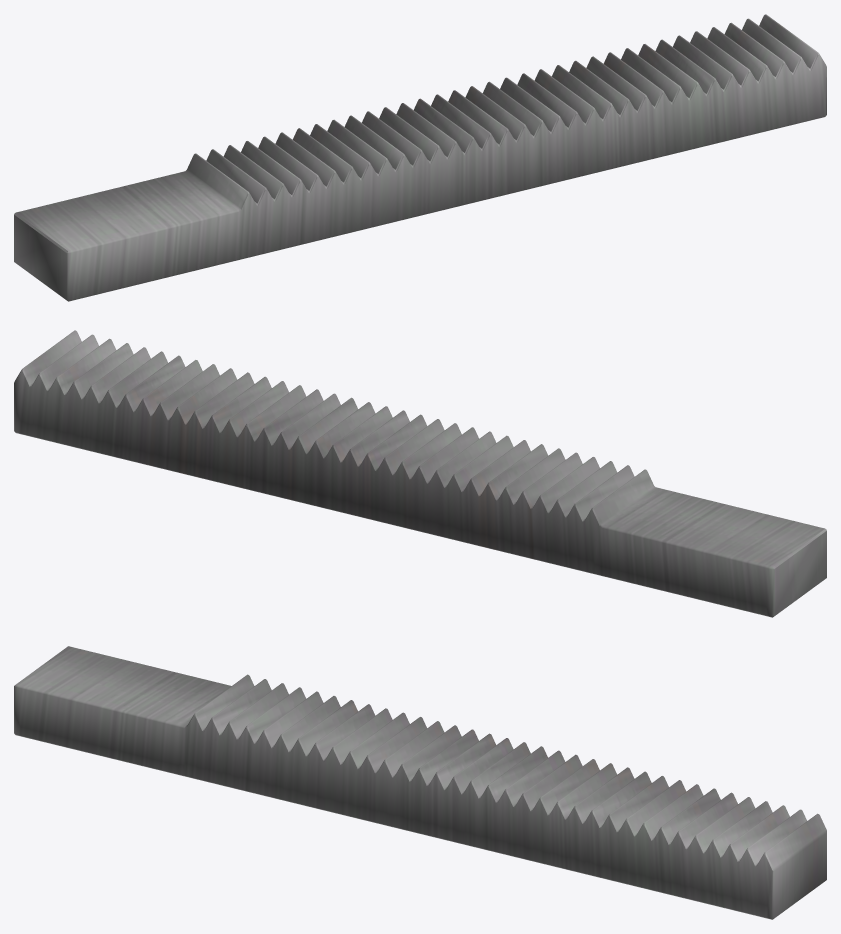
Rendered from やすり歯車.fbx.
3 views of the same model, one above another, from view 1: azimuth 30°, elevation 25°; view 2: azimuth 150°, elevation 25°; view 3: azimuth 330°, elevation 25° (orthographic).
Visible parts, largest first — view 1: obj1; view 2: obj1; view 3: obj1.
Boxes of the visible parts, <box> form: obj1: <box>14,14,826,301</box>; obj1: <box>14,330,826,617</box>; obj1: <box>14,646,826,919</box>.
Size of the model in its own units: 496 by 40.9 by 61.64.
1 material, 1 textured.
